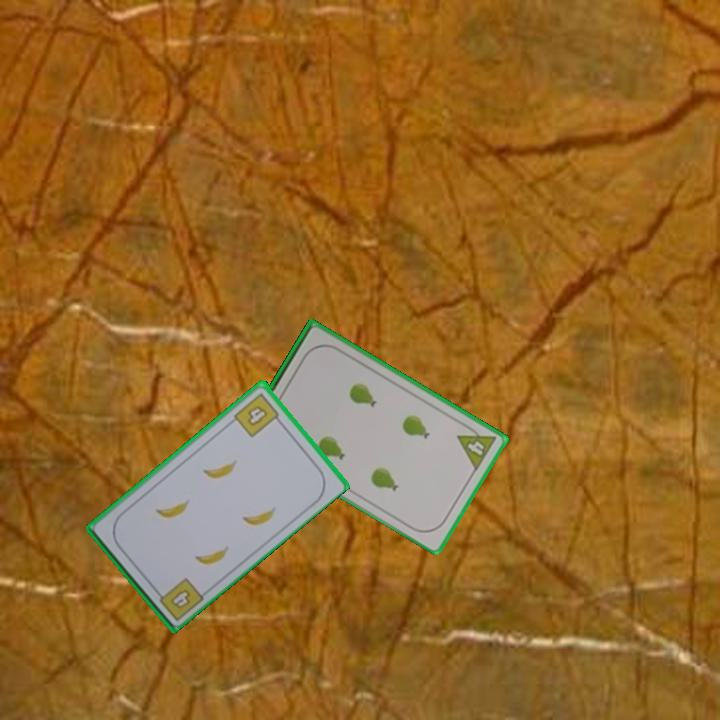4b: (230, 389, 285, 440), (166, 585, 193, 611)
4p: (454, 420, 500, 473)
